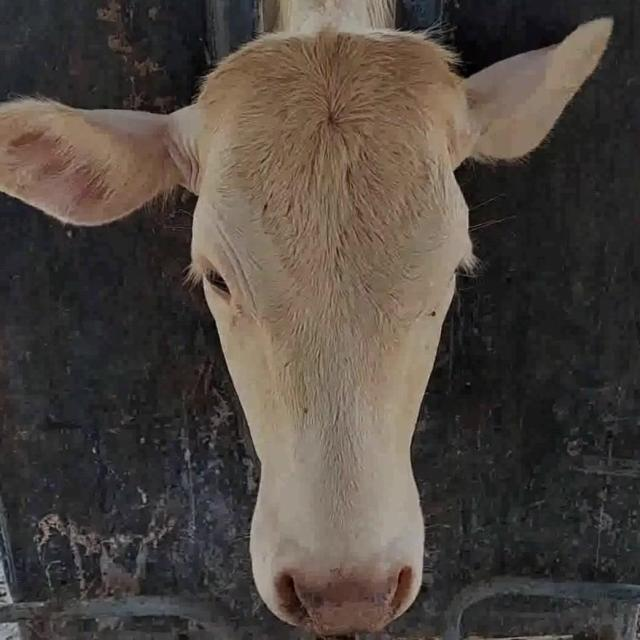cowFace: (191, 30, 474, 624)
